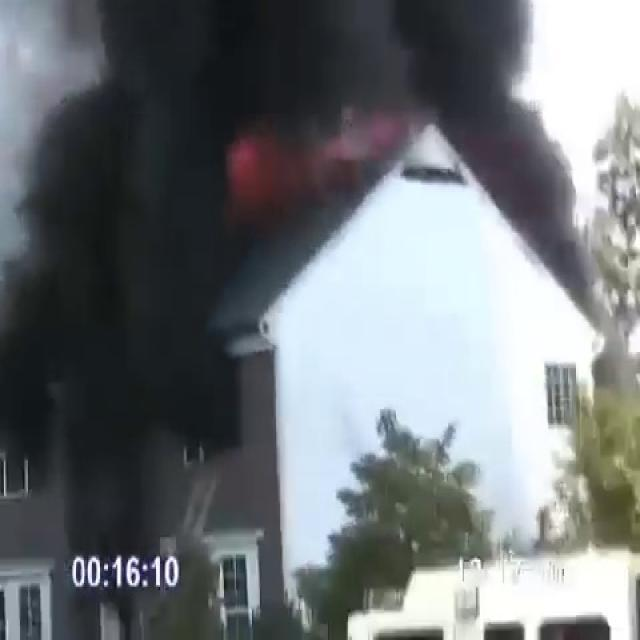Smoke: (0, 2, 293, 640), (2, 0, 606, 256)
